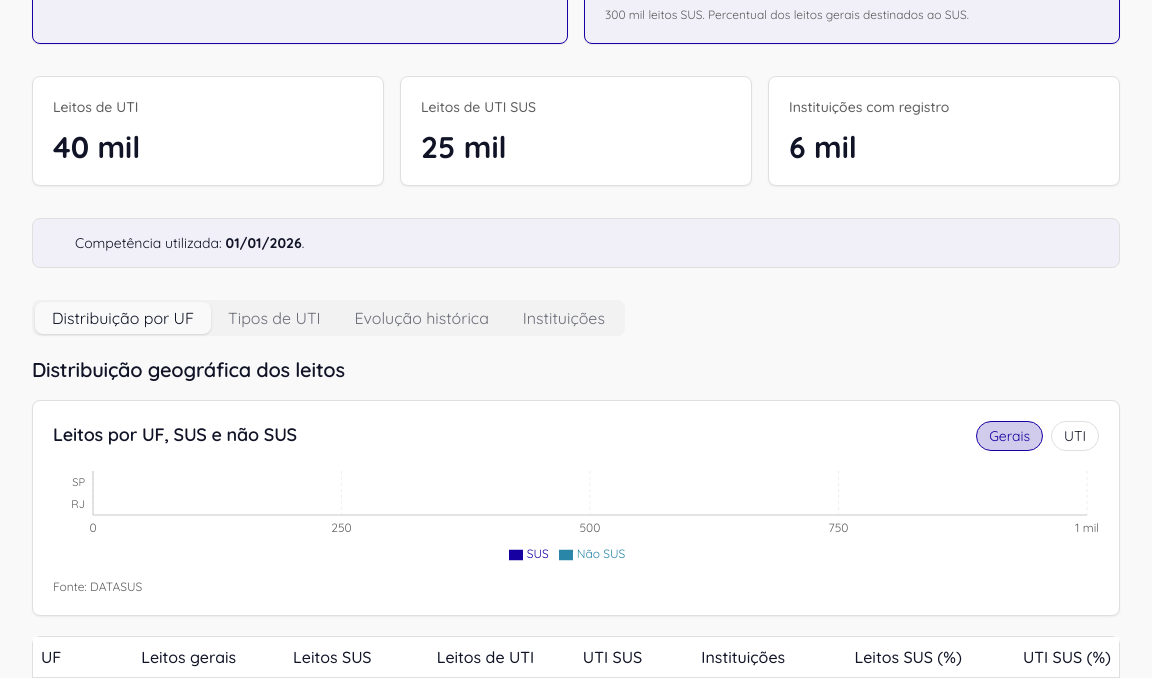
Leitos › falha na evolução isolada mostra um ErrorState próprio na aba, sem acionar o da página inteira
The width and height of the screenshot is (1152, 678).
(page scrolled)
Step 1. Press the mouse on the tab "Evolução histórica" → (422, 318), box [338,302,506,334]
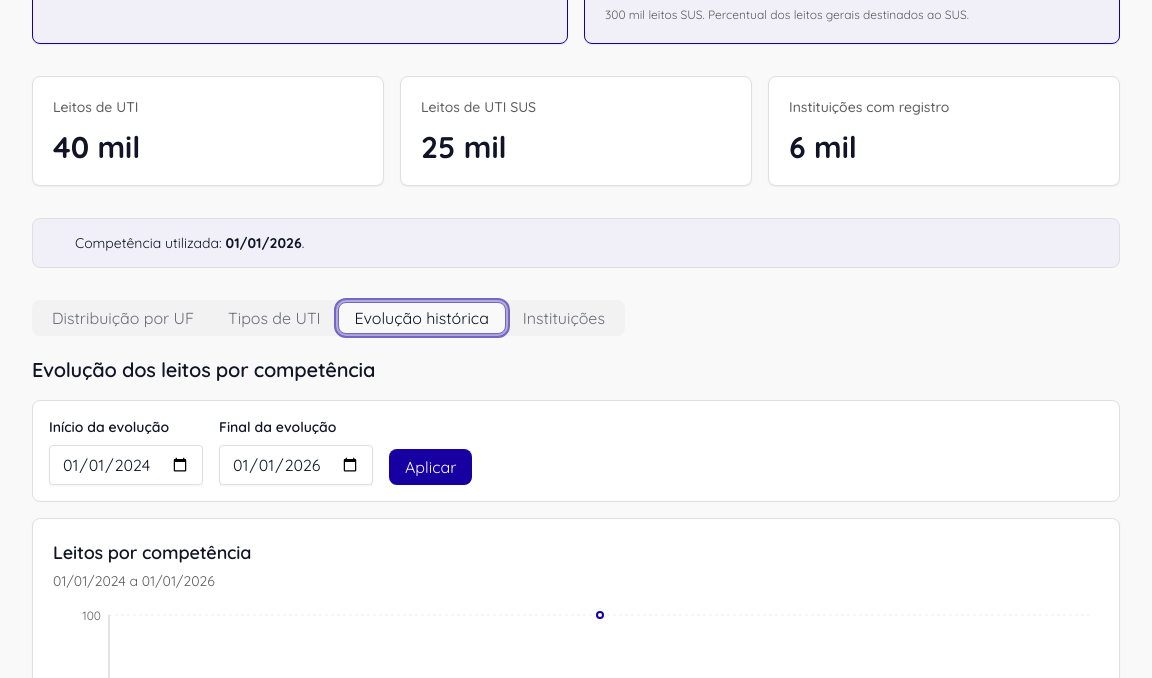
Step 2. Type "2025-01-01" into the date field labelled "Início da evolução" → (126, 465), box [49,445,203,485]
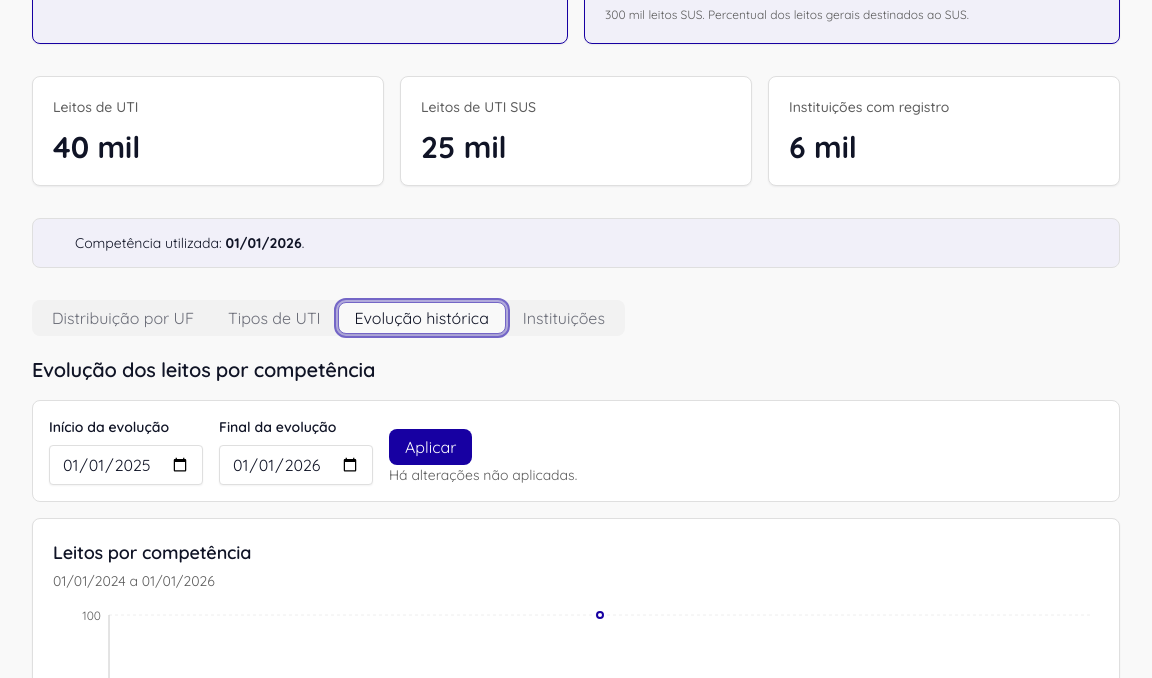
Step 3. Click the button with aria-label "Aplicar período da evolução" → (431, 447), box [389,429,472,465]
(page scrolled)
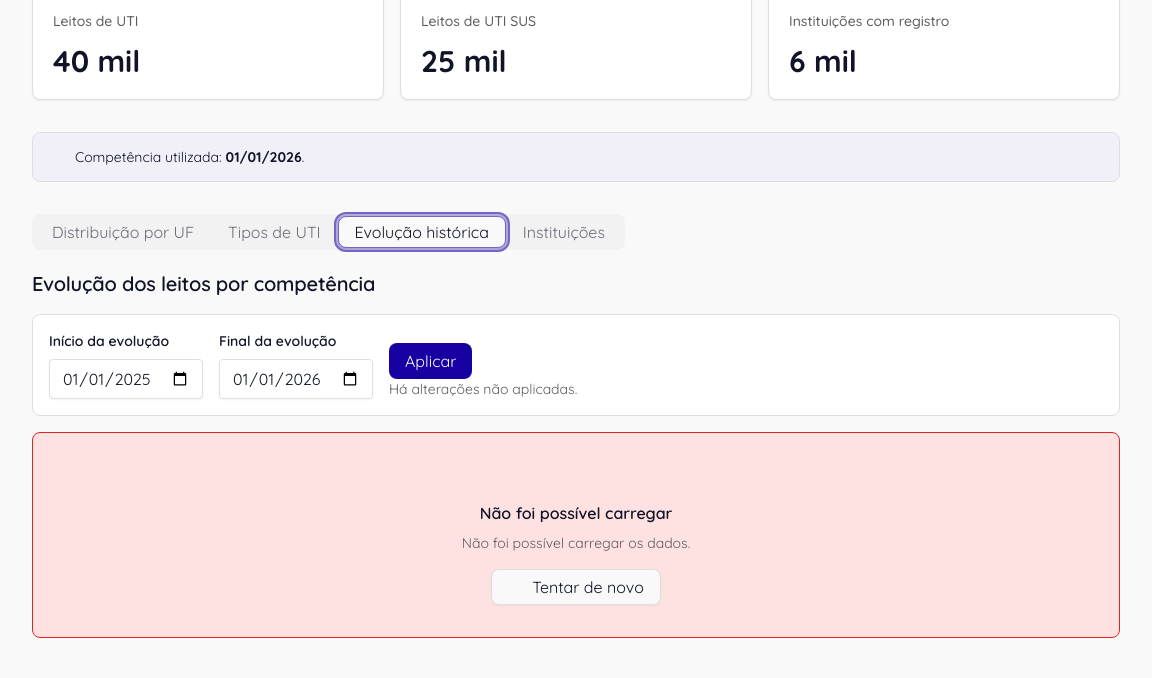
Expected: the text "Não foi possível carregar" is shown, [480,501,672,525]
Step 4. Click the button "Tentar de novo" → (576, 587), box [491,569,661,605]
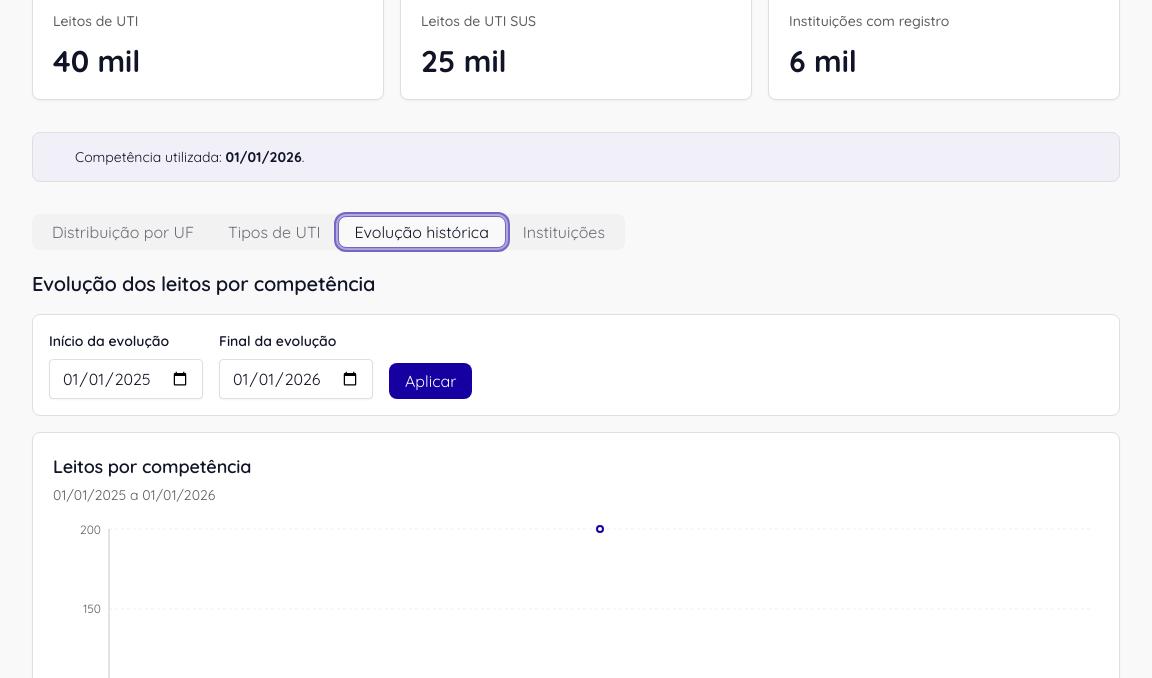
Expected: the text "Não foi possível carregar" is gone
